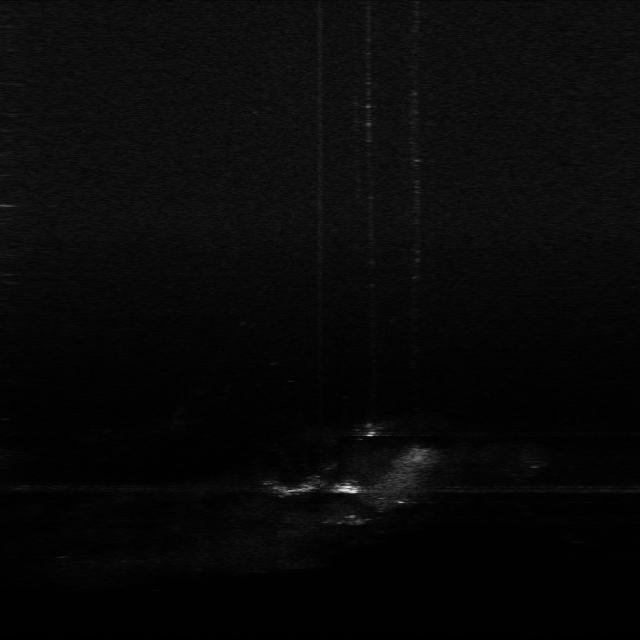rov: (333, 480, 363, 496)
